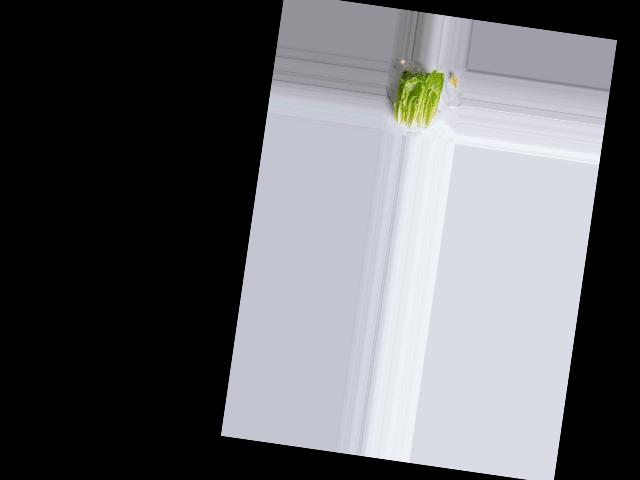lettuce: (389, 63, 447, 131)
